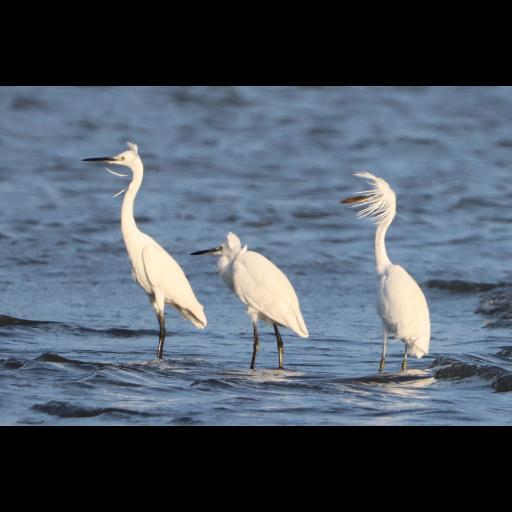chinese_egret: (340, 170, 430, 372)
